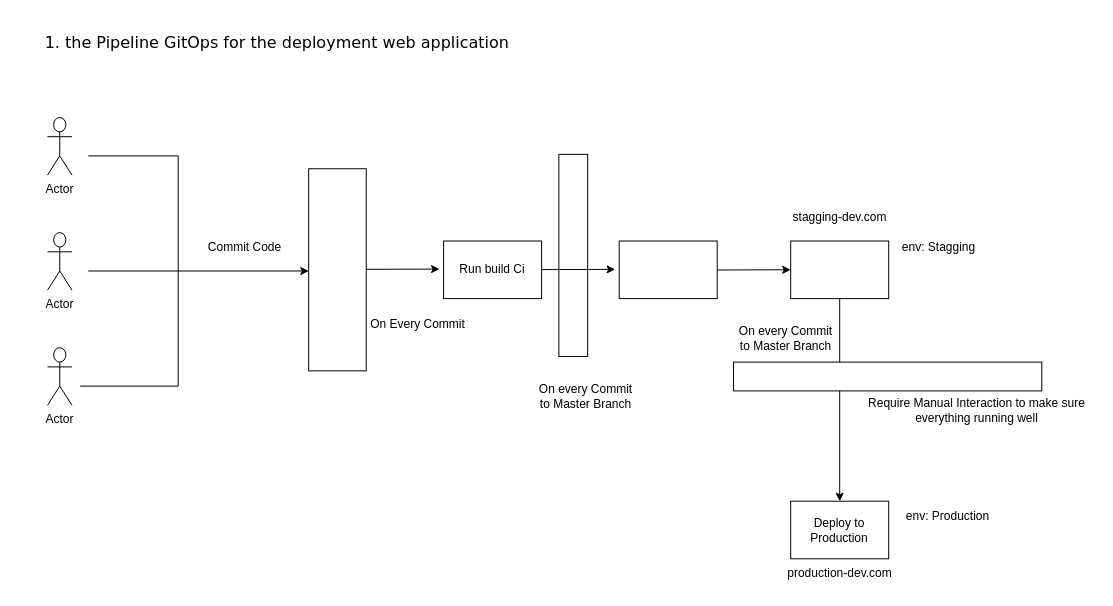
Image size: 1113x606. Some labels were removed from this diagram. The shapes that lost their labels are listed below. From the top down, each one's centre as x and y in pixels, then its label:
point 337,269: GitLab
point 667,269: Build Docker images
point 839,269: Deploy to Stagging
